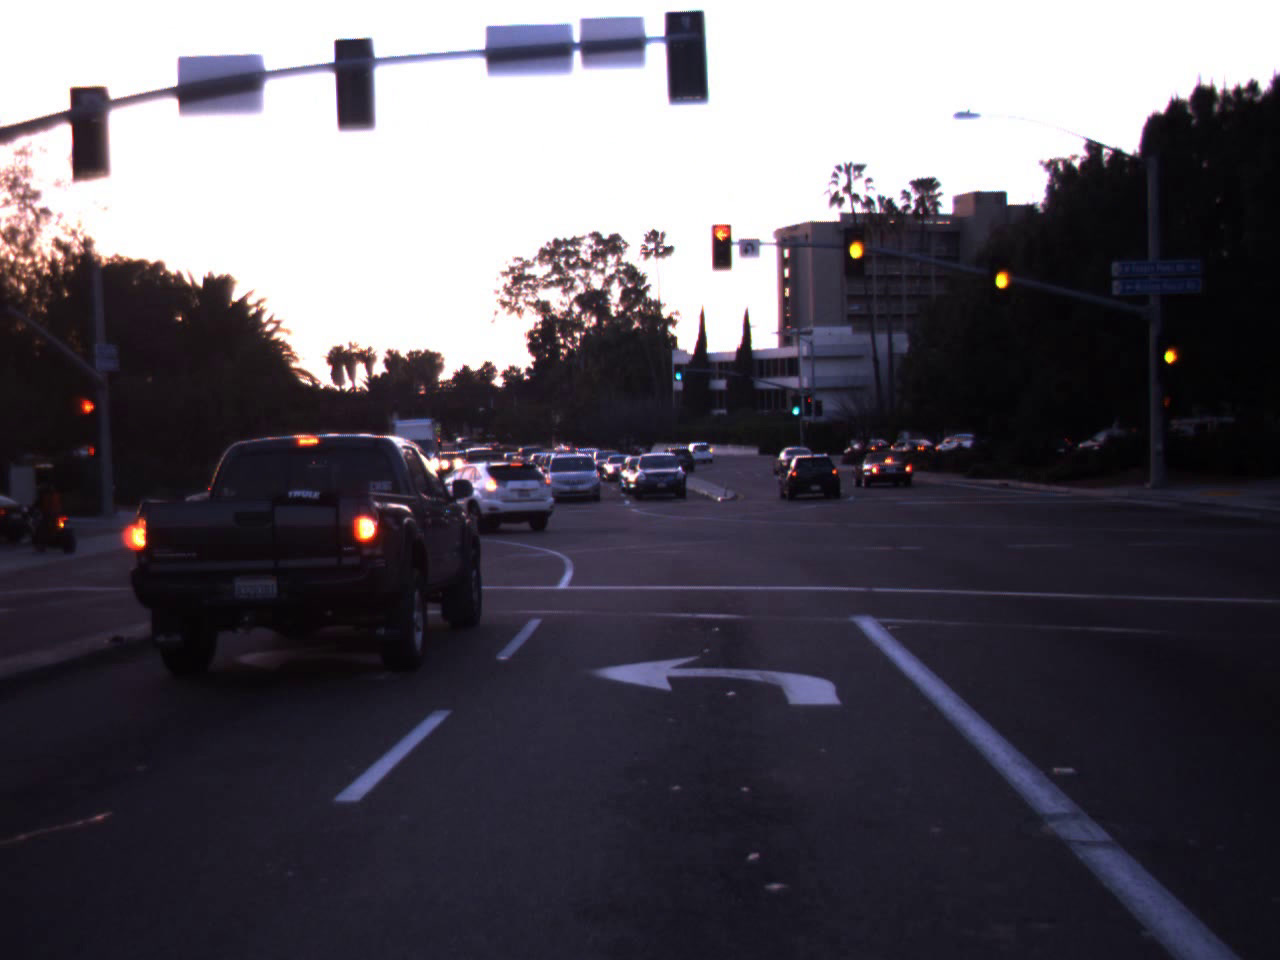go: (672, 360, 684, 380)
stop: (696, 217, 747, 284), (73, 395, 103, 444)
warning: (838, 210, 874, 282), (987, 246, 1017, 309), (1158, 330, 1182, 379)
